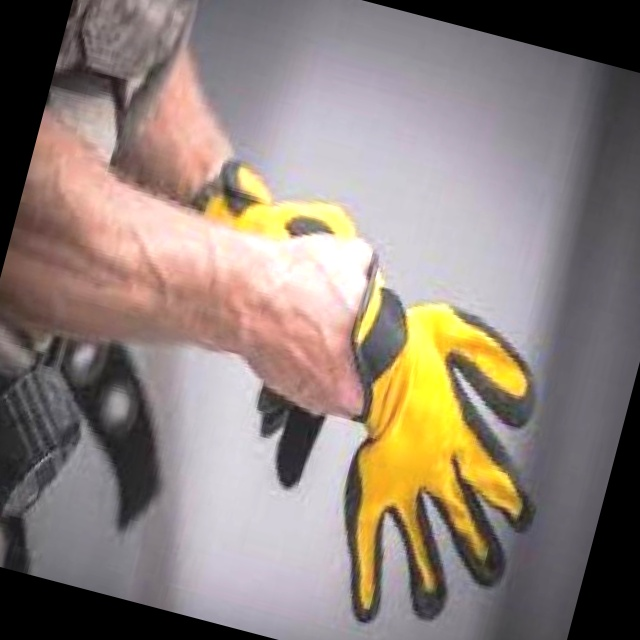gloves: (347, 252, 577, 598), (176, 169, 357, 497)
